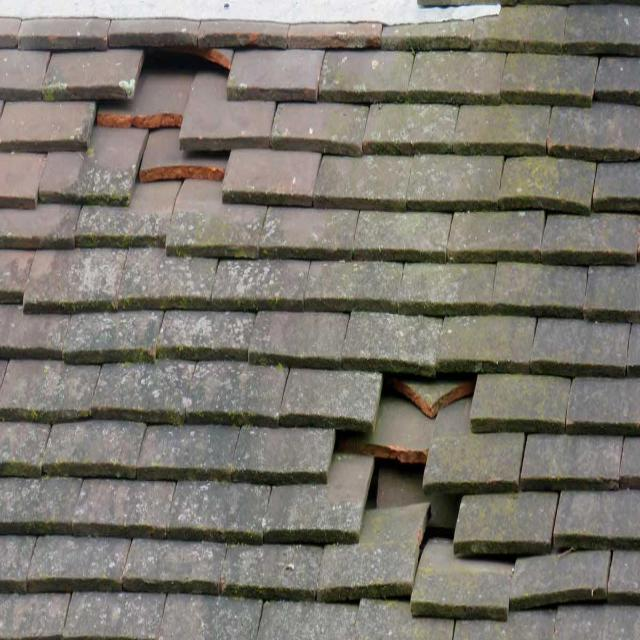trou: (320, 354, 486, 543), (89, 41, 240, 192)
